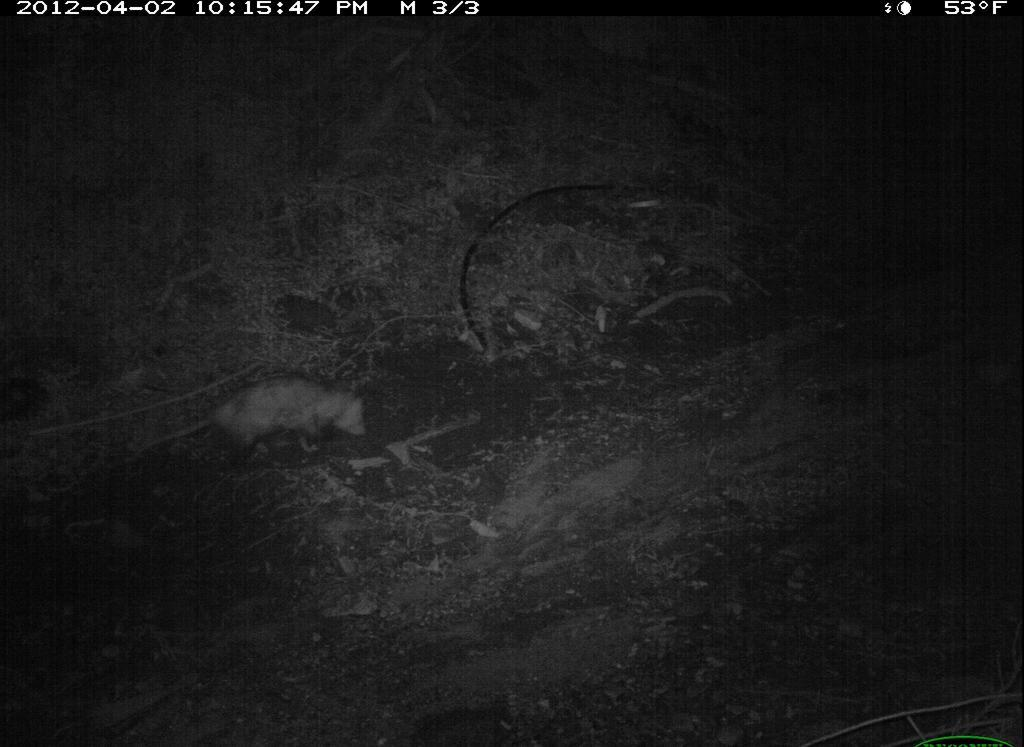opossum: (131, 370, 372, 472)
